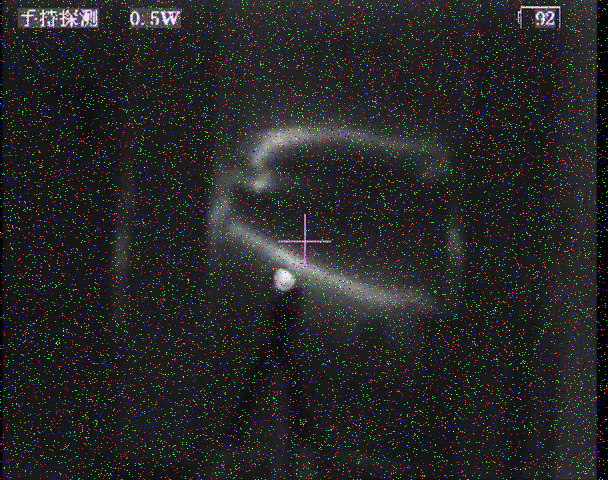my: (271, 268, 296, 292)
